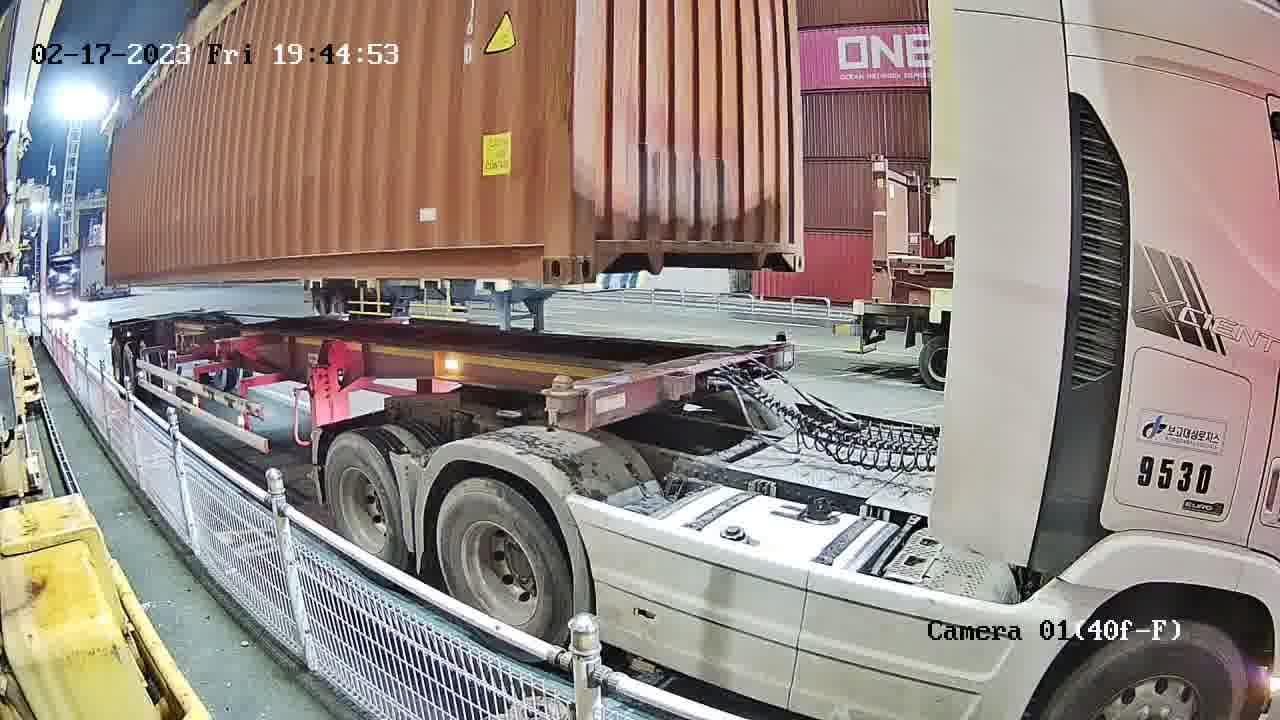Chassis: (537, 340, 792, 432)
Cone: (540, 371, 579, 432), (768, 329, 792, 346)
Hole_L: (572, 211, 627, 284)
Hole_R: (509, 215, 575, 288), (765, 221, 805, 271)
Tire: (438, 484, 570, 639), (323, 435, 403, 562)
